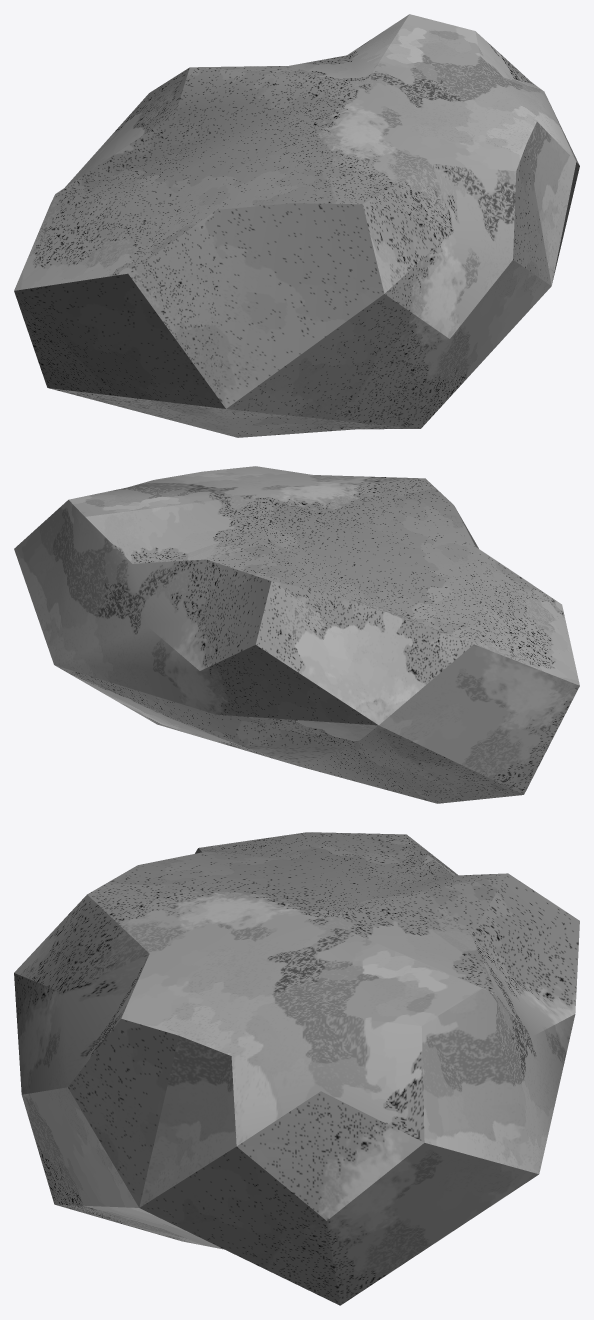
Rendered from filler rock 2.fbx.
The picture shows the model from 3 angles, top to bottom: view 1: azimuth 30°, elevation 25°; view 2: azimuth 150°, elevation 25°; view 3: azimuth 270°, elevation 25°; orthographic projection. The views are drawn at different scales.
Visible parts, largest first — view 1: fillerrock2; view 2: fillerrock2; view 3: fillerrock2.
Boxes of the visible parts, bbox=[...] form: fillerrock2: bbox=[14, 14, 579, 437]; fillerrock2: bbox=[14, 466, 579, 803]; fillerrock2: bbox=[14, 832, 579, 1305].
Bounding box in the file's own units: 144 × 71 × 99.08.
